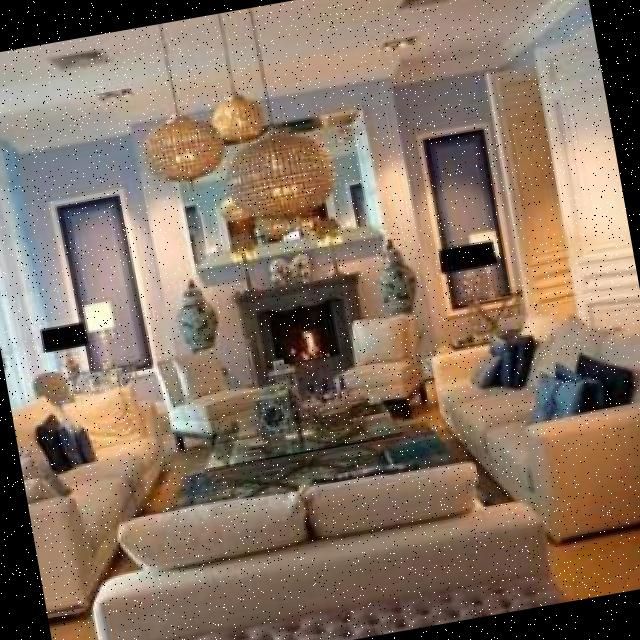fire: (278, 326, 329, 364)
